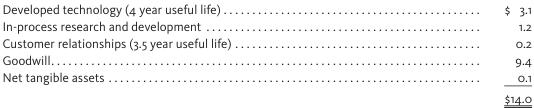table: (1, 0, 531, 105)
table column: (1, 0, 370, 105), (370, 0, 531, 105)
table row: (1, 68, 531, 87), (1, 33, 531, 51), (1, 87, 531, 105), (1, 16, 531, 33), (1, 51, 531, 68), (1, 0, 531, 16)
